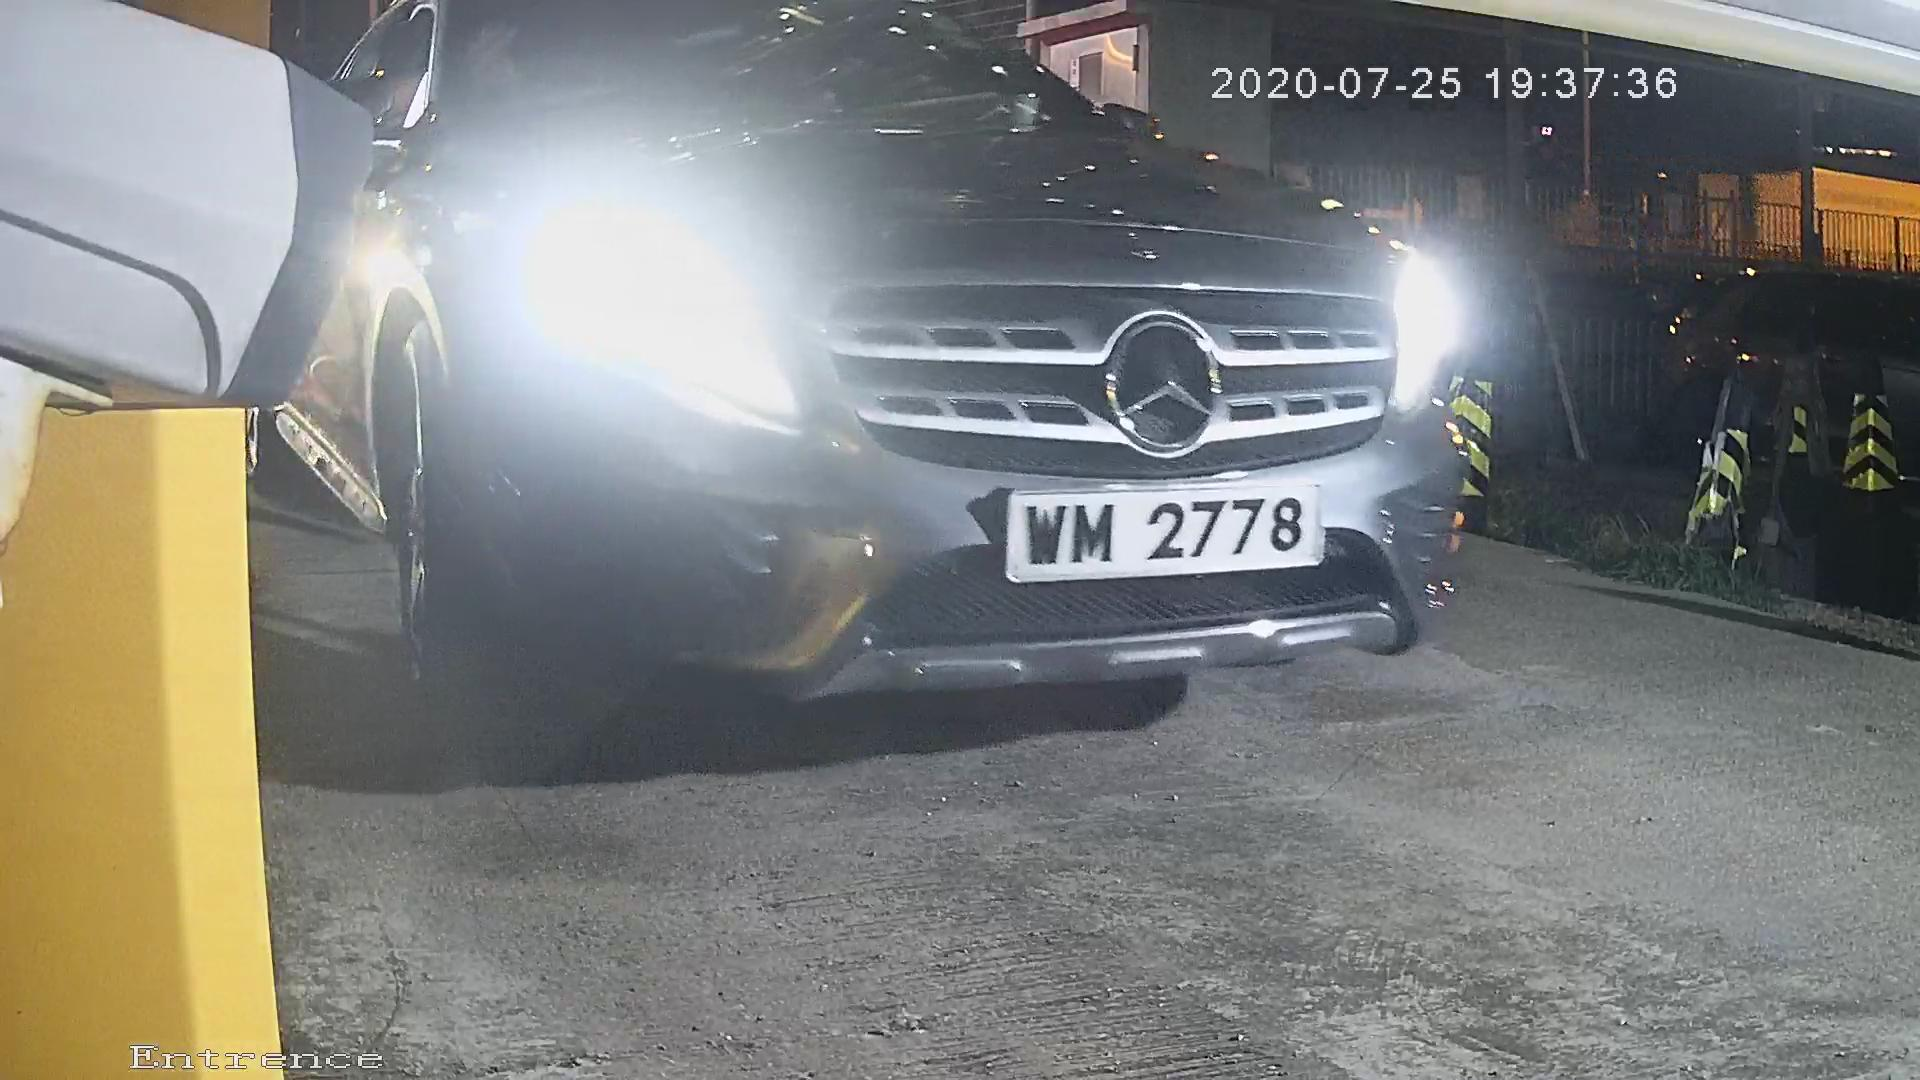License Plate: (961, 468, 1372, 589)
